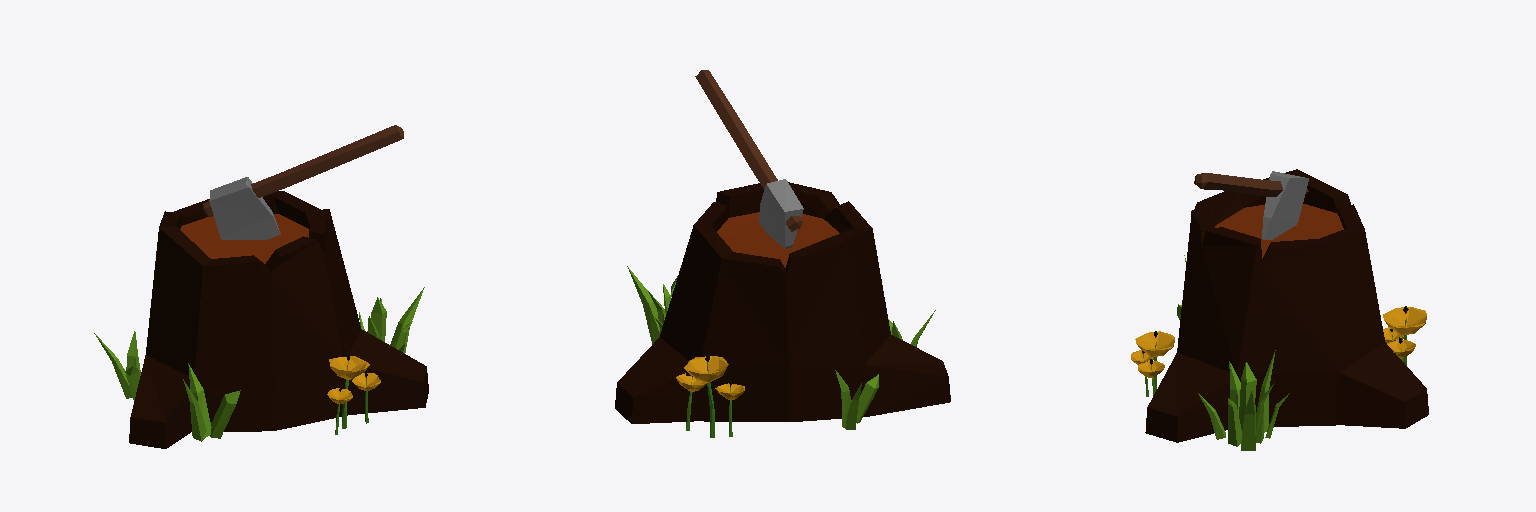
File: stump1.obj
The picture shows the model from 3 angles: view 1: azimuth 30°, elevation 25°; view 2: azimuth 150°, elevation 25°; view 3: azimuth 270°, elevation 25°; orthographic projection.
Visible parts, largest first — view 1: Stump6_Cylinder.038; view 2: Stump6_Cylinder.038; view 3: Stump6_Cylinder.038.
Boxes of the visible parts, x1,y1,x2,y2 form: Stump6_Cylinder.038: [94, 125, 428, 448]; Stump6_Cylinder.038: [615, 70, 950, 437]; Stump6_Cylinder.038: [1131, 169, 1428, 450].
Bounding box in the file's own units: 2.11 × 1.74 × 1.76.